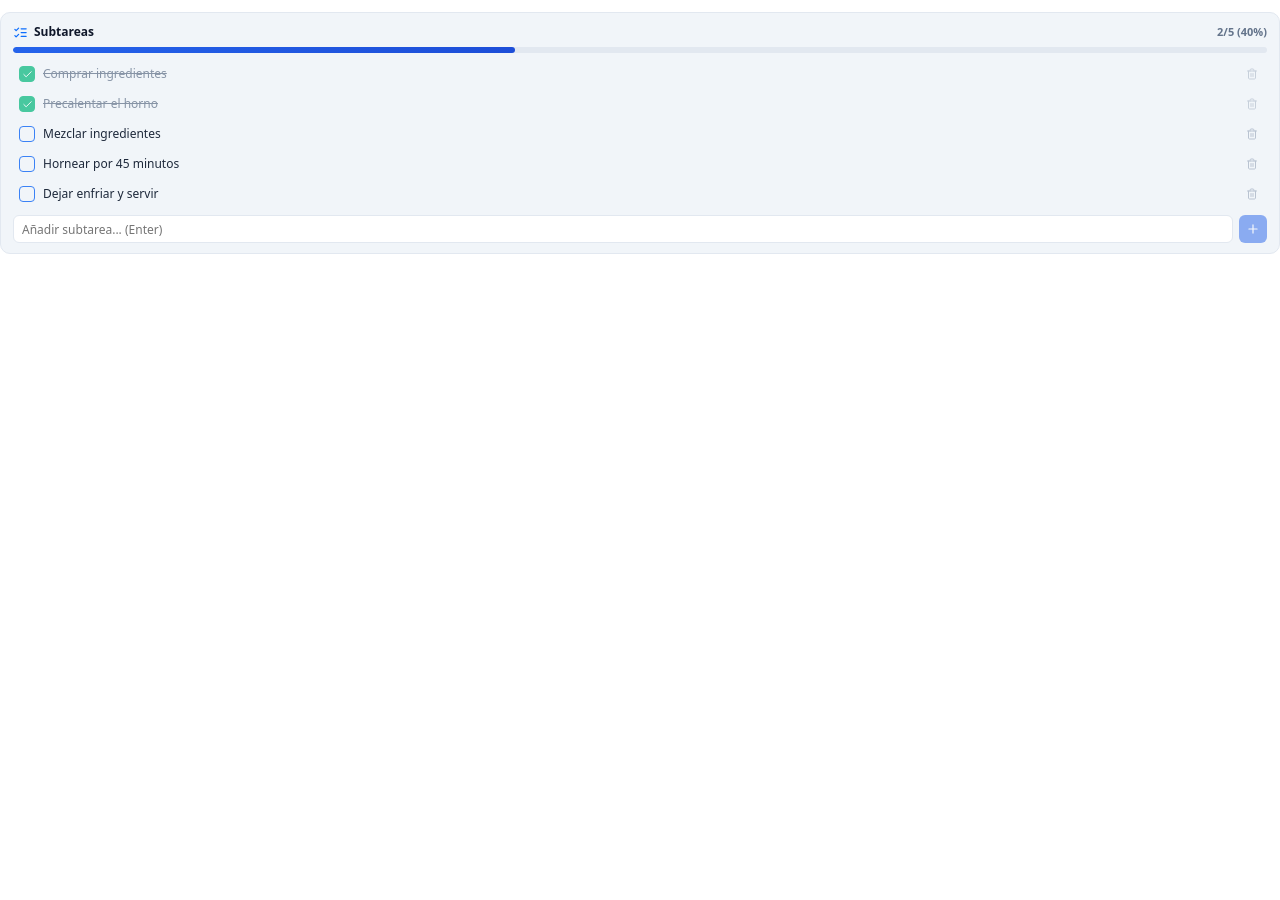
Test case: TaskChecklist › permite añadir una nueva subtarea pulsando Enter
This screenshot has width=1280, height=900.
Type "Limpiar la cocina" into the field with placeholder "Añadir subtarea... (Enter)" at (623, 229), box [13,215,1233,243]
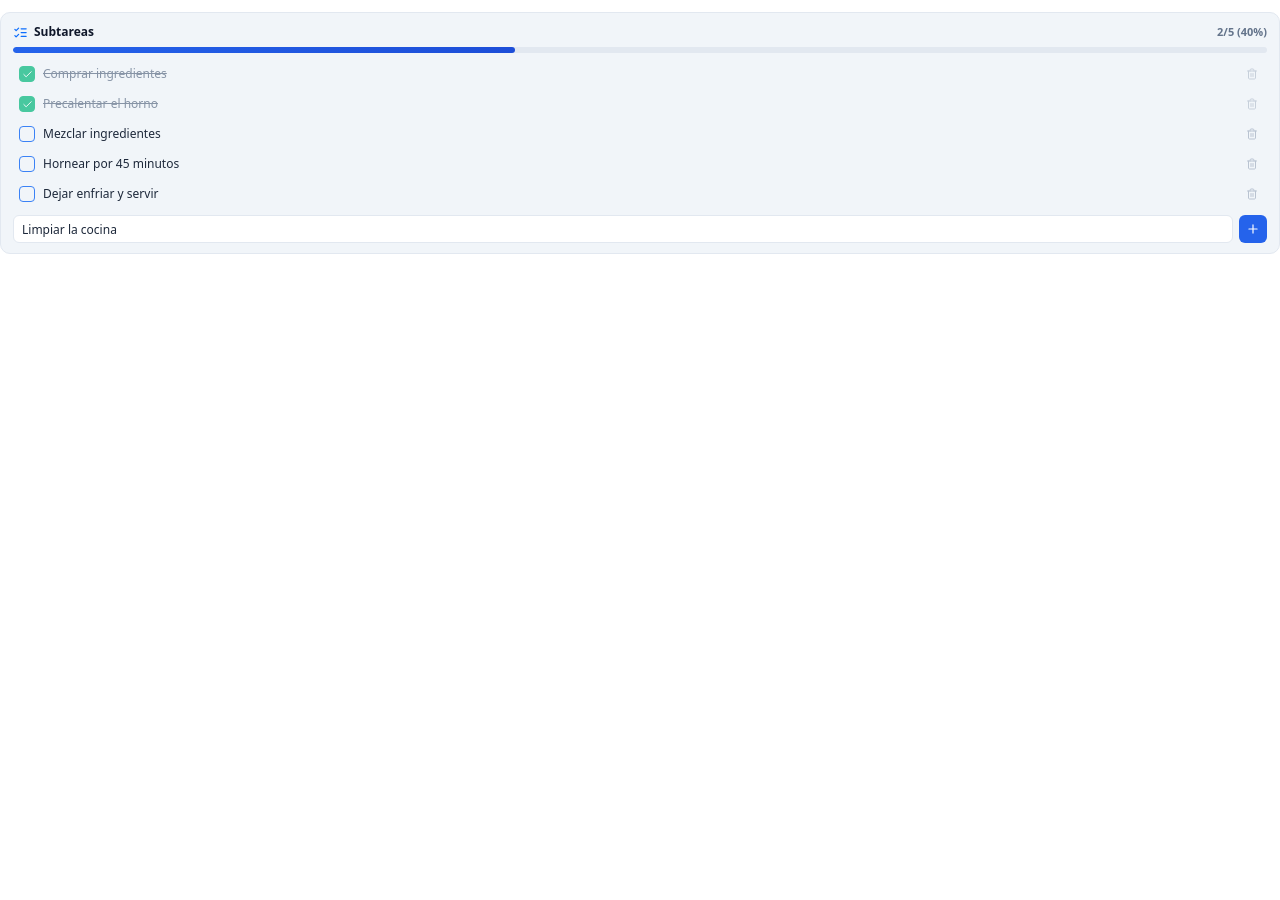
Press Enter in the field with placeholder "Añadir subtarea... (Enter)", box [13,215,1233,243]
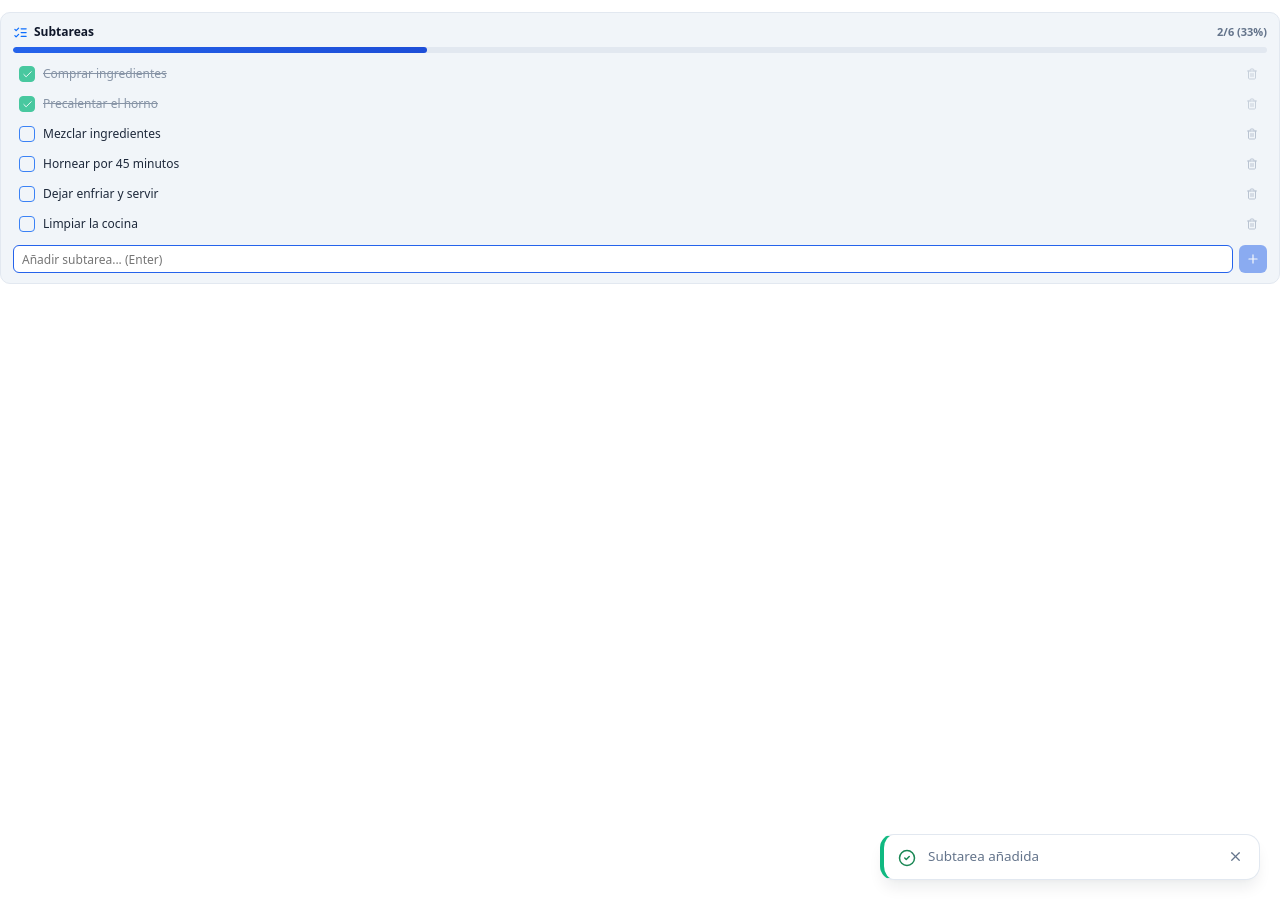
Expected: the text "Limpiar la cocina" is shown, [43,215,138,232]
